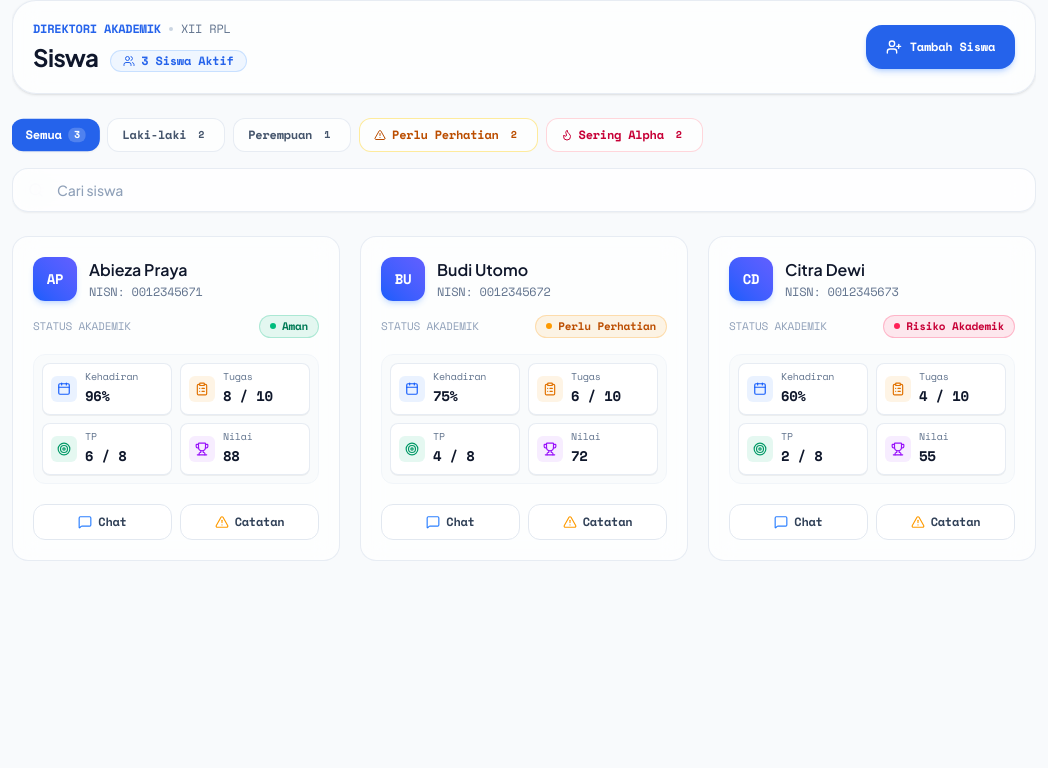
Test: STAGE UX-04: Class Student Directory & Academic Health Monitoring (Part B) › Section 3: search input filters student list by name and NISN
The width and height of the screenshot is (1048, 768).
// Search by NISN
In the field with placeholder "Cari siswa": (524, 190) left=12, top=168, right=1036, bottom=212, type "26004"
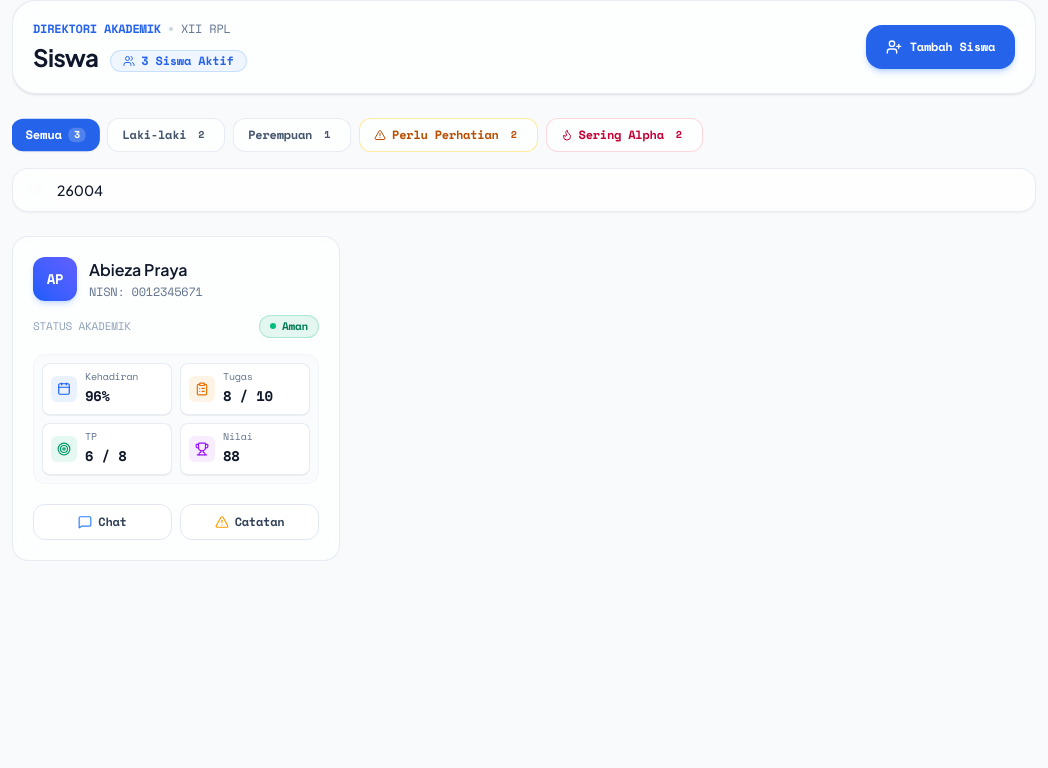
Expected: the heading "Abieza Praya" is shown, left=89, top=258, right=203, bottom=282
Expected: the heading "Budi Utomo" is gone
// Search by name
Replace the text in the field with placeholder "Cari siswa" with "Citra": (524, 190) left=12, top=168, right=1036, bottom=212
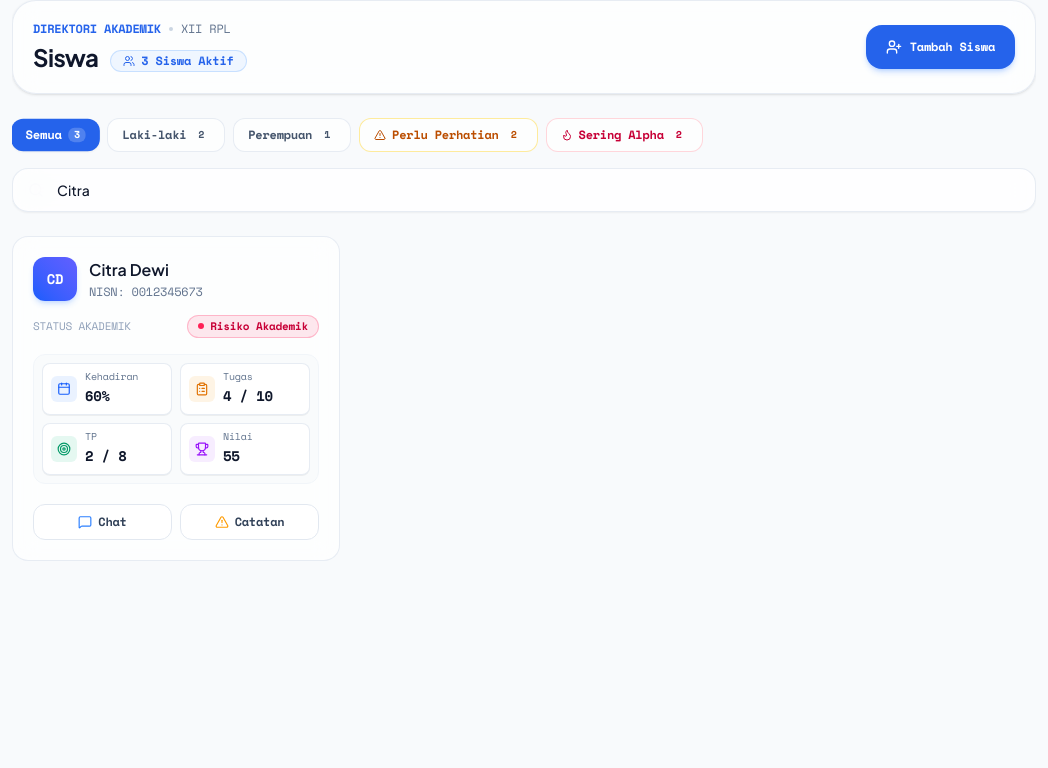
Expected: the heading "Abieza Praya" is gone
Expected: the heading "Citra Dewi" is shown, left=89, top=259, right=169, bottom=280
